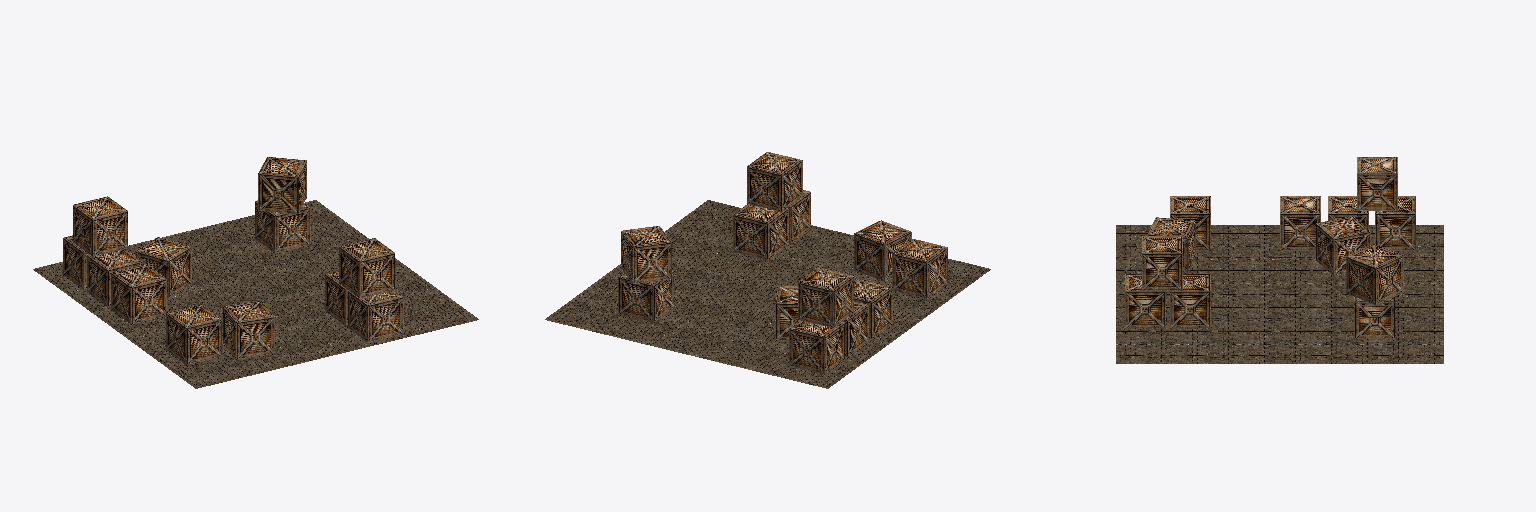
3 renders of one model, left to right at view 1: azimuth 30°, elevation 25°; view 2: azimuth 150°, elevation 25°; view 3: azimuth 270°, elevation 25°, orthographic.
Parts seen in each view (by area): view 1: Plane, Cube.004_Cube.014, Cube.003_Cube.013, Cube.005_Cube.015, Cube.008_Cube.017, Cube.011_Cube.020, Cube.000_Cube.010, Cube.002_Cube.012, Cube.006, Cube.010_Cube.019, Cube.009_Cube.018, Cube.007_Cube.016 (+1 smaller); view 2: Plane, Cube.008_Cube.017, Cube.003_Cube.013, Cube.004_Cube.014, Cube.000_Cube.010, Cube.001_Cube.011, Cube.007_Cube.016, Cube.011_Cube.020, Cube.006, Cube.005_Cube.015, Cube.010_Cube.019, Cube.009_Cube.018 (+1 smaller); view 3: Plane, Cube.000_Cube.010, Cube.003_Cube.013, Cube.010_Cube.019, Cube.008_Cube.017, Cube.005_Cube.015, Cube.001_Cube.011, Cube.007_Cube.016, Cube.002_Cube.012, Cube.006, Cube.004_Cube.014, Cube.011_Cube.020 (+1 smaller).
Boxes of the visible parts, <box> form: Plane: <box>33,200,478,388</box>; Cube.004_Cube.014: <box>166,304,221,364</box>; Cube.003_Cube.013: <box>339,238,394,297</box>; Cube.005_Cube.015: <box>111,264,166,324</box>; Cube.008_Cube.017: <box>73,196,127,256</box>; Cube.011_Cube.020: <box>223,301,274,359</box>; Cube.000_Cube.010: <box>258,157,306,213</box>; Cube.002_Cube.012: <box>348,290,403,342</box>; Cube.006: <box>255,200,310,252</box>; Cube.010_Cube.019: <box>135,237,191,297</box>; Cube.009_Cube.018: <box>87,249,142,306</box>; Cube.007_Cube.016: <box>63,235,89,289</box>; Plane: <box>545,200,990,388</box>; Cube.008_Cube.017: <box>798,268,853,327</box>; Cube.003_Cube.013: <box>747,152,802,211</box>; Cube.004_Cube.014: <box>892,239,947,298</box>; Cube.000_Cube.010: <box>621,226,671,283</box>; Cube.001_Cube.011: <box>733,204,788,259</box>; Cube.007_Cube.016: <box>789,320,844,374</box>; Cube.011_Cube.020: <box>854,220,911,281</box>; Cube.006: <box>618,270,673,322</box>; Cube.005_Cube.015: <box>854,279,892,338</box>; Cube.010_Cube.019: <box>775,286,799,340</box>; Cube.009_Cube.018: <box>843,302,868,356</box>; Plane: <box>1116,225,1443,363</box>; Cube.000_Cube.010: <box>1346,244,1403,304</box>; Cube.003_Cube.013: <box>1142,236,1182,290</box>; Cube.010_Cube.019: <box>1316,216,1370,275</box>; Cube.008_Cube.017: <box>1357,157,1397,210</box>; Cube.005_Cube.015: <box>1280,196,1320,250</box>; Cube.001_Cube.011: <box>1170,274,1210,327</box>; Cube.007_Cube.016: <box>1375,196,1415,250</box>; Cube.002_Cube.012: <box>1125,274,1165,327</box>; Cube.006: <box>1354,297,1394,338</box>; Cube.004_Cube.014: <box>1170,196,1210,250</box>; Cube.011_Cube.020: <box>1148,217,1195,273</box>.
Bounding box in the file's own units: 4.8 × 1.24 × 4.8.
Materials: 2 (2 with a texture image).